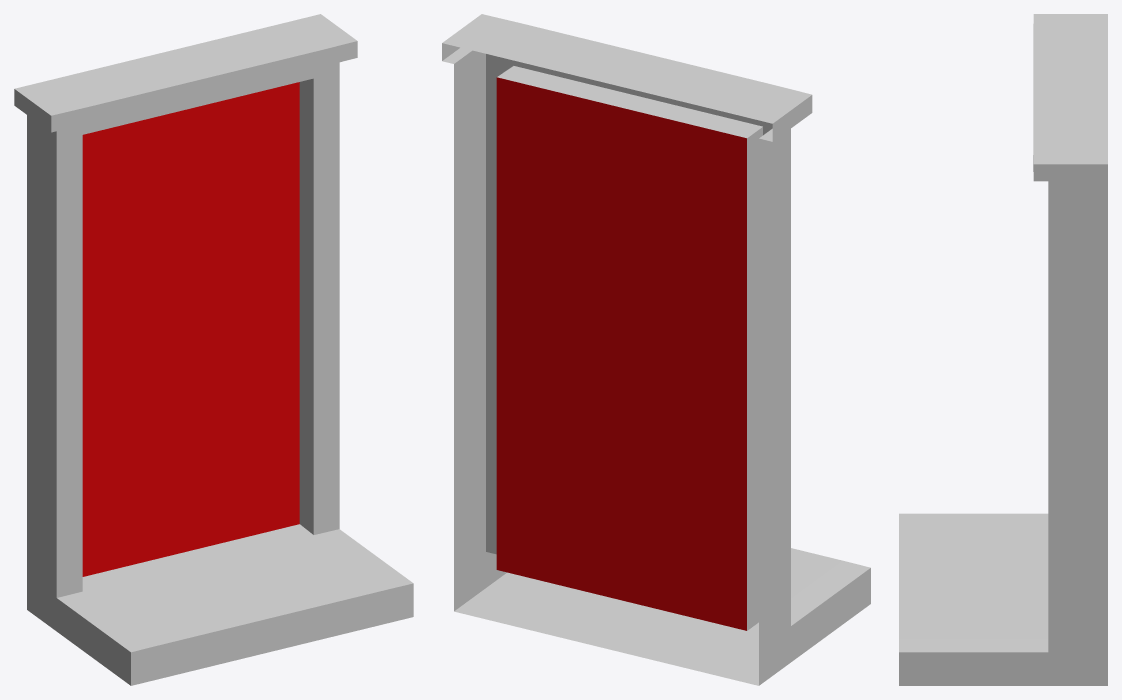
File: Window2.fbx
3 views of the same model, side by side, from view 1: azimuth 30°, elevation 25°; view 2: azimuth 150°, elevation 25°; view 3: azimuth 270°, elevation 25° (orthographic). The views are drawn at different scales.
Visible parts, largest first — view 1: Window2_LOD0, Window2_LOD0.001; view 2: Window2_LOD0.001, Window2_LOD0; view 3: Window2_LOD0.
Boxes of the visible parts, x1,y1,x2,y2 form: Window2_LOD0: [14, 14, 413, 685]; Window2_LOD0.001: [82, 82, 299, 576]; Window2_LOD0.001: [496, 77, 746, 630]; Window2_LOD0: [442, 14, 870, 685]; Window2_LOD0: [899, 14, 1107, 685].
Bounding box in the file's own units: 119 × 195 × 70.04.
